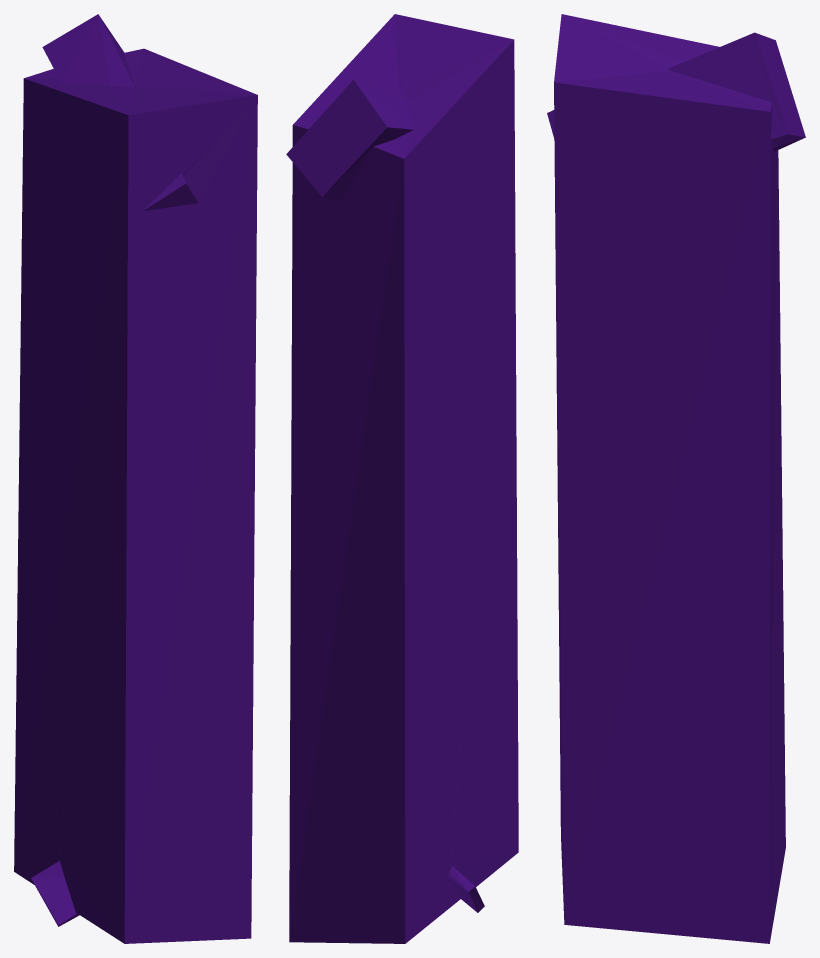
The picture shows the model from 3 angles, left to right: view 1: azimuth 30°, elevation 25°; view 2: azimuth 150°, elevation 25°; view 3: azimuth 270°, elevation 25°; orthographic projection.
Parts seen in each view (by area): view 1: 038_Cube.160; view 2: 038_Cube.160; view 3: 038_Cube.160.
Part boxes in pixels (left/top/right/bottom): 038_Cube.160: left=14, top=14, right=257, bottom=943; 038_Cube.160: left=286, top=14, right=518, bottom=943; 038_Cube.160: left=547, top=14, right=805, bottom=943.
Size of the model in its own units: 2.3 by 12.63 by 3.36.
